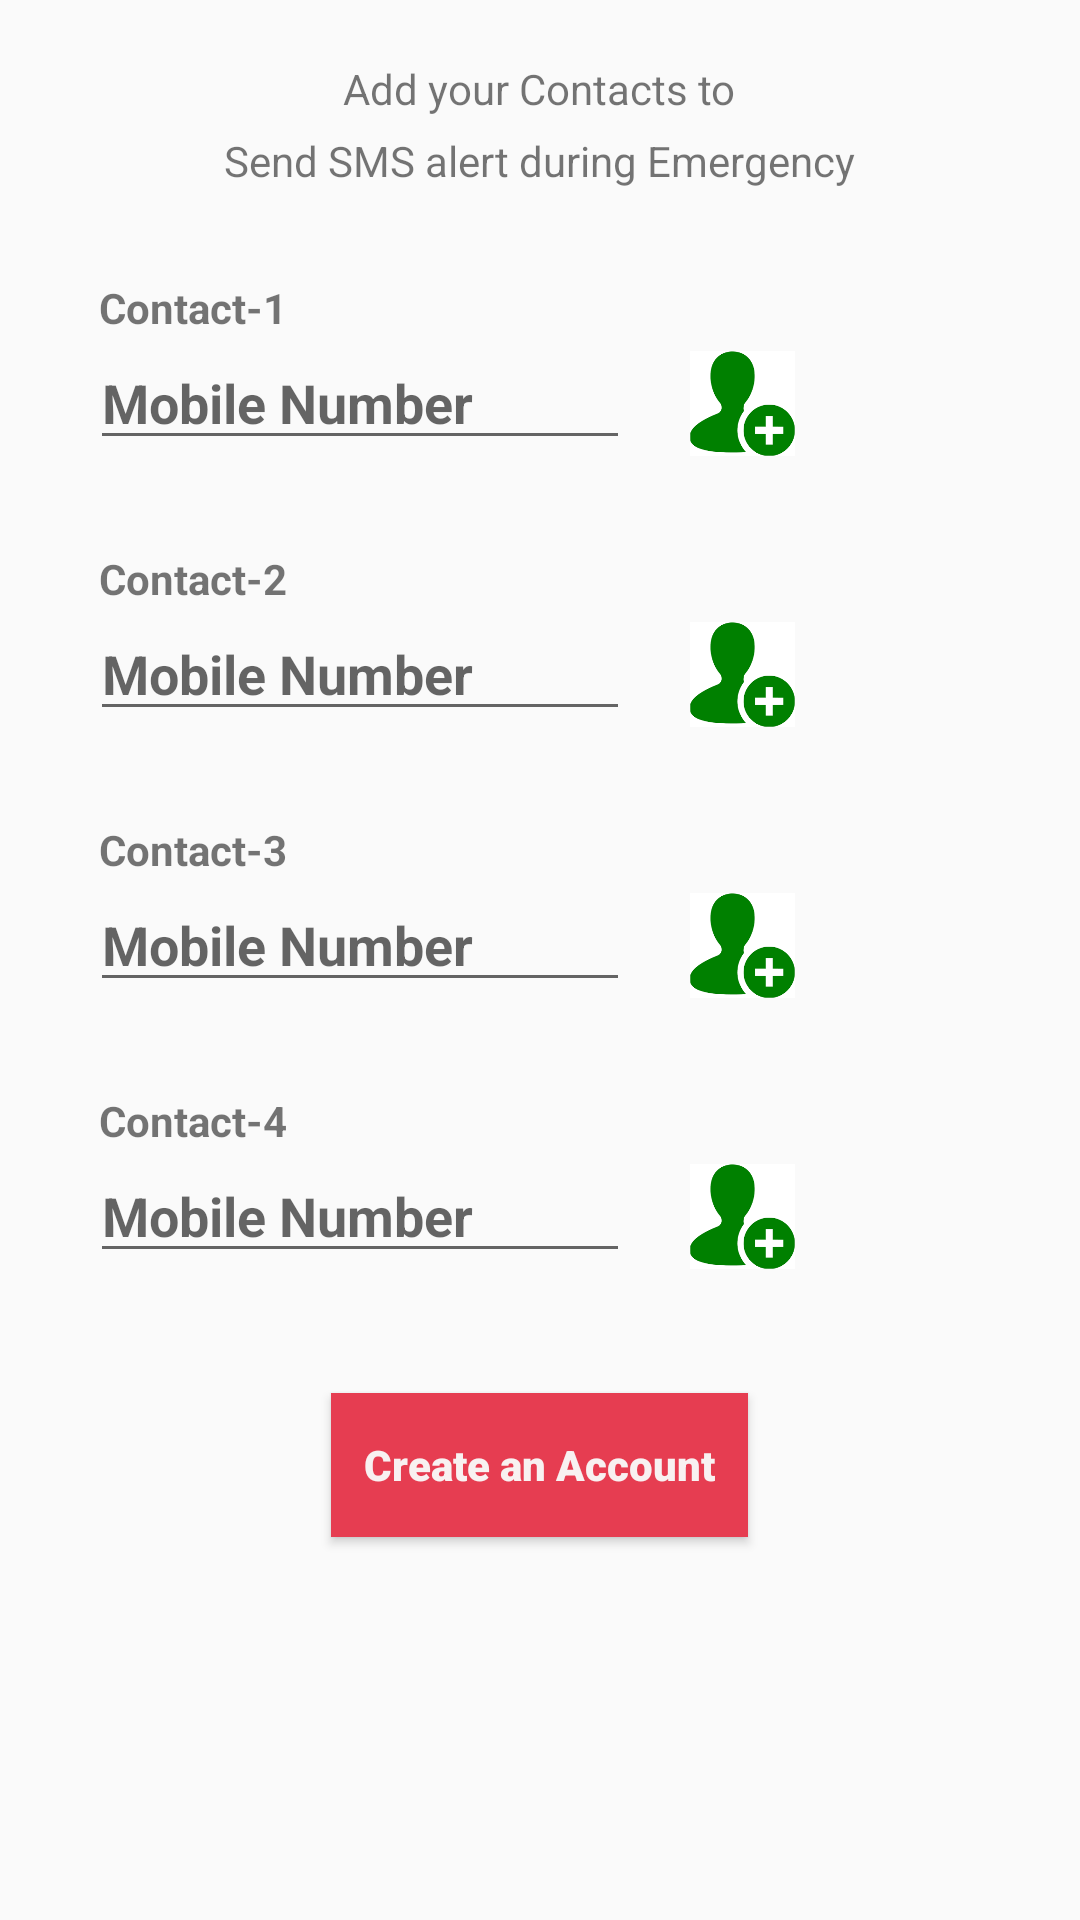

Locate icon controls on the screen. Image size 1080*1920, boxes as (x1, y1, x2, y2).
addcontact: (690, 351, 795, 456), (690, 622, 795, 727), (690, 893, 795, 998), (690, 1164, 795, 1269)
